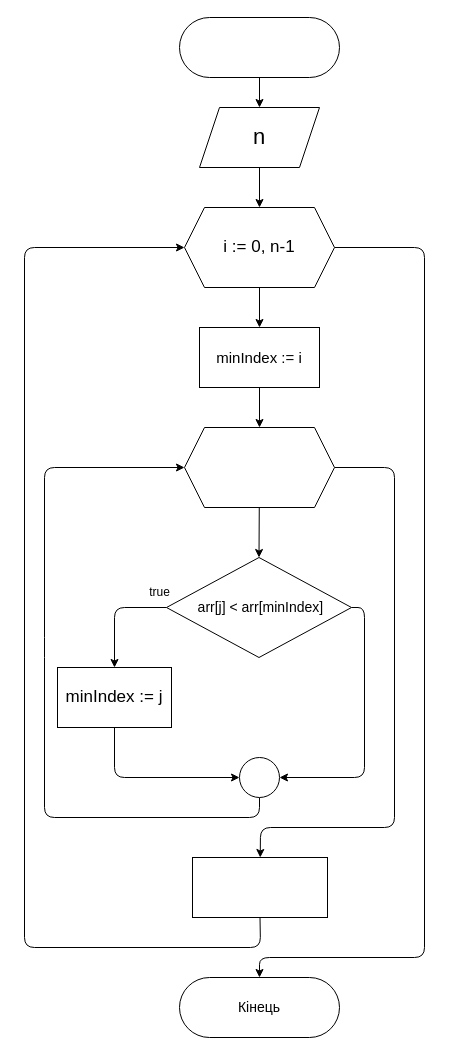
Some shapes in this 450 by 1055 pixel diagram are drawn without their labels. The shapes that lost their labels are listed below. From the top down, each one's box as (x1, y1, x2, y2) in pixels, then its label:
(178, 16, 340, 78): Початок
(184, 426, 334, 508): j := i+ 1 , n
(192, 856, 328, 918): Swap arr[i] ↔ arr[minIndex]
